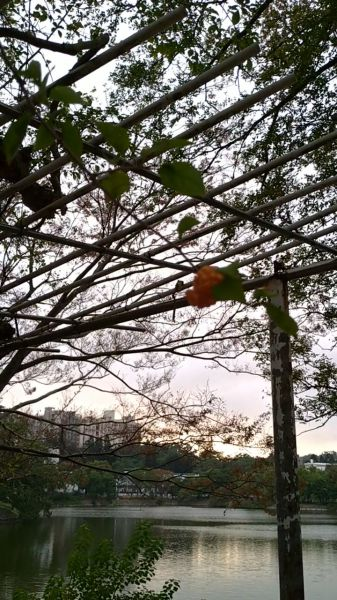eggs: (185, 259, 239, 316)
